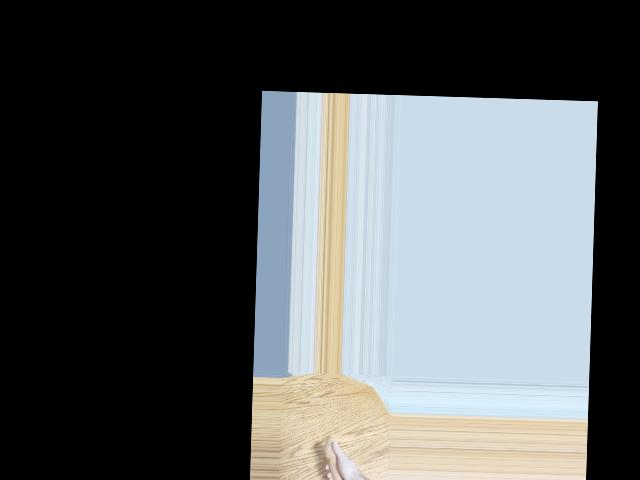sweet_potato: (319, 438, 356, 480)
